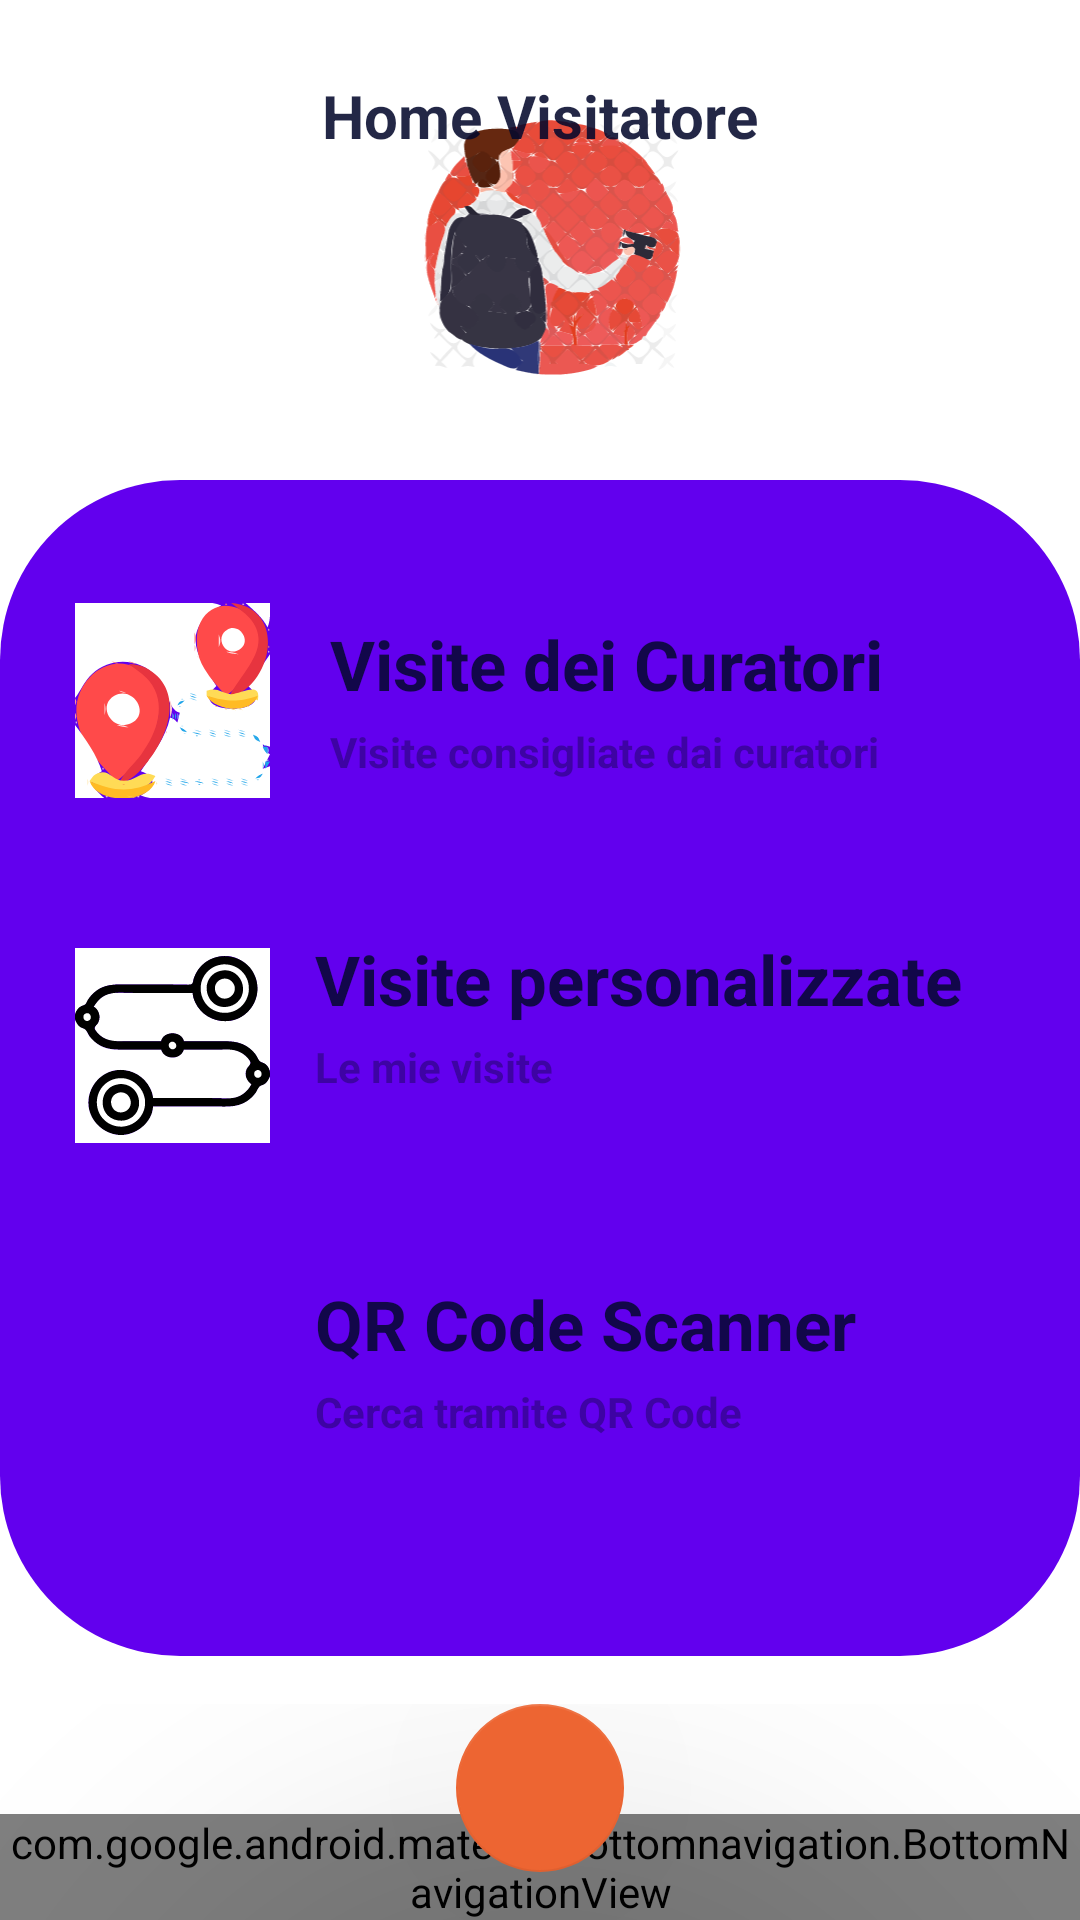

Icons on this 1080w x 1920h Android screen, each with its box as (x1, y1, x2, y2):
Visite Curatore: (75, 603, 270, 798)
